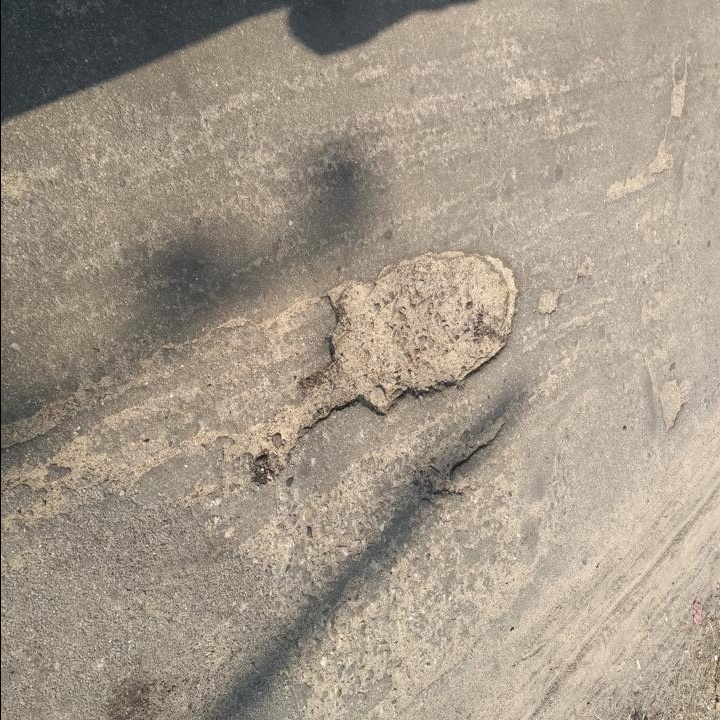pothole: (254, 242, 524, 483), (414, 412, 509, 503), (601, 135, 674, 206), (655, 373, 695, 435), (668, 57, 691, 120), (536, 286, 562, 320)
